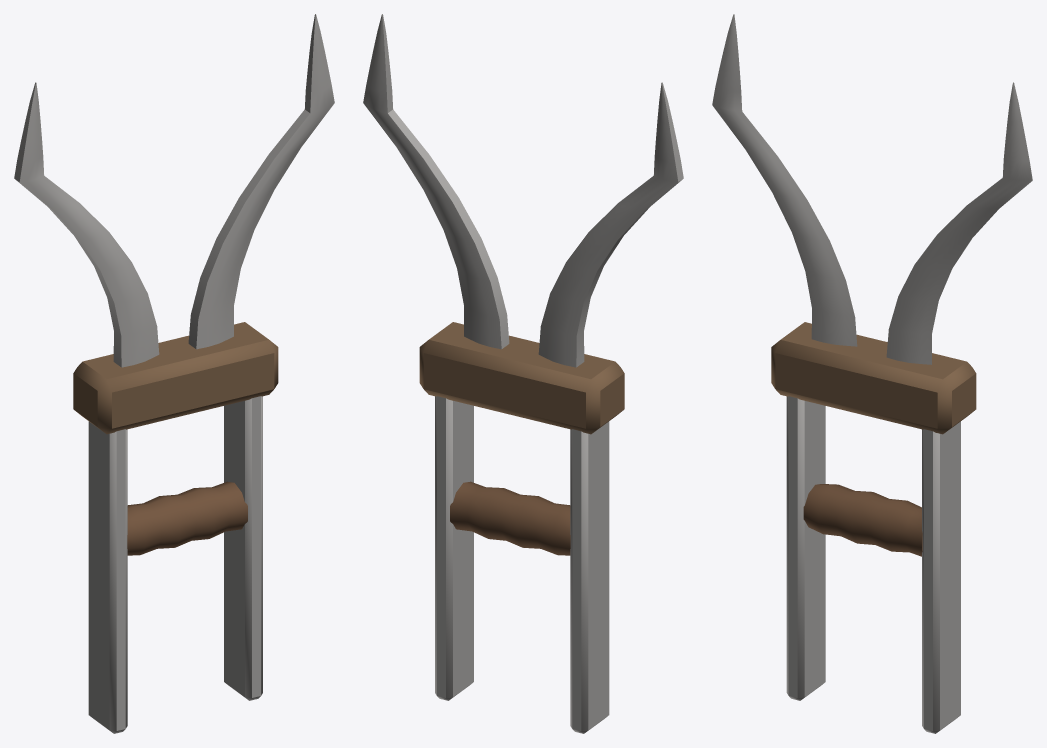
File: scrappers_hooks.glb
3 renders of one model, left to right at view 1: azimuth 30°, elevation 25°; view 2: azimuth 150°, elevation 25°; view 3: azimuth 330°, elevation 25°, orthographic.
Visible parts, largest first — view 1: scrappers_hooks; view 2: scrappers_hooks; view 3: scrappers_hooks.
Boxes of the visible parts, x1=… form: scrappers_hooks: x1=14, y1=14, x2=334, y2=733; scrappers_hooks: x1=363, y1=14, x2=683, y2=733; scrappers_hooks: x1=712, y1=14, x2=1032, y2=733.
Bounding box in the file's own units: 0.2114 × 0.4195 × 0.04.
